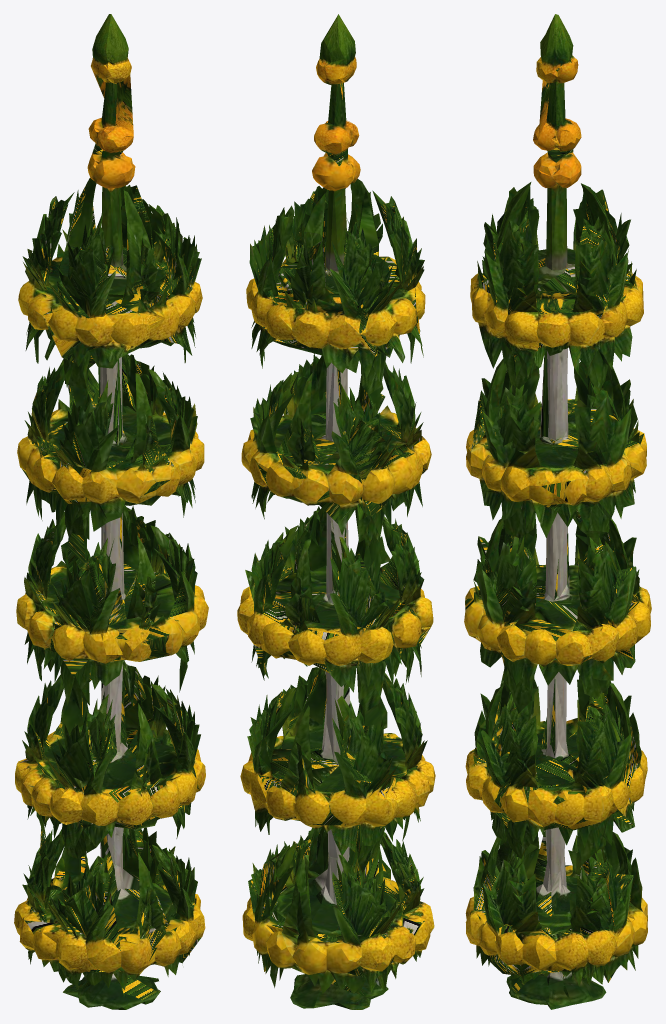
The model's file is w3tower.glb.
3 views of the same model, side by side, from view 1: azimuth 30°, elevation 25°; view 2: azimuth 150°, elevation 25°; view 3: azimuth 270°, elevation 25° (orthographic).
Visible parts, largest first — view 1: w3tower_near, w3tower_far; view 2: w3tower_near, w3tower_far; view 3: w3tower_near, w3tower_far.
Boxes of the visible parts, box(x1,y1,x2,y2) form: w3tower_near: box(14, 14, 208, 1009); w3tower_far: box(17, 61, 201, 1000); w3tower_near: box(237, 14, 435, 1009); w3tower_far: box(248, 57, 430, 1002); w3tower_near: box(464, 14, 651, 1009); w3tower_far: box(465, 58, 644, 1004).
Size of the model in its own units: 0.51 by 2.8 by 0.4891.
Materials: 1 (1 with a texture image).
